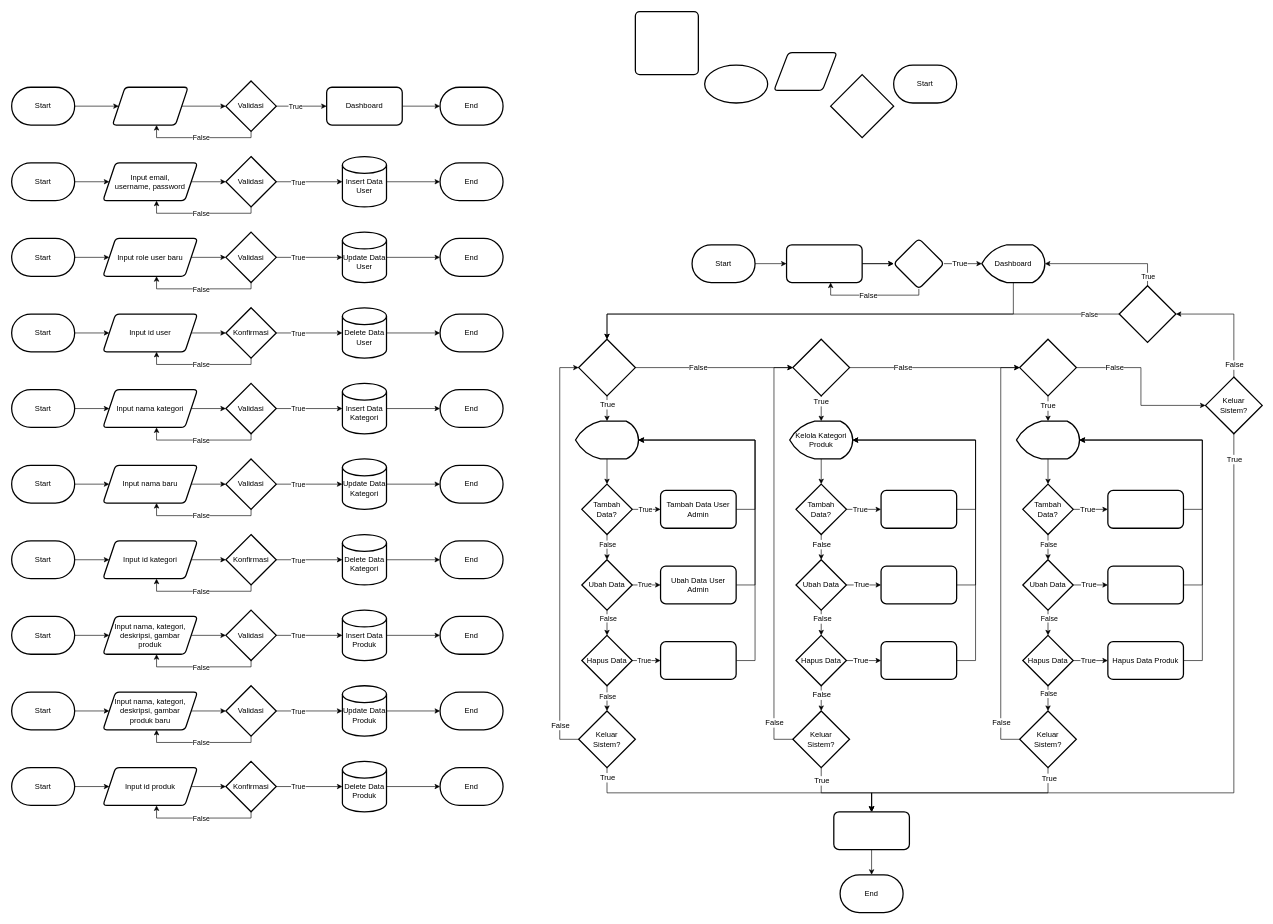
The diagram is 1273 pixels wide and 924 high, and some of its shapes have lost their labels. Here are the shapes that lost their labels. From the top down, the centre of each, then its label:
At pixel 150 105: "Input username dan password".
At pixel 824 263: "Login".
At pixel 918 263: "Login Sukses?".
At pixel 1147 314: "Dashboard?".
At pixel 607 367: "Kelola User Admin?".
At pixel 821 367: "Kelola Kategori Produk?".
At pixel 1048 367: "Kelola Produk?".
At pixel 607 439: "Kelola User Admin".
At pixel 1048 439: "Kelola Produk".
At pixel 918 509: "Tambah Data Kategori Produk".
At pixel 1145 509: "Tambah Data Produk".
At pixel 918 584: "Ubah Data Kategori Produk".
At pixel 1145 584: "Ubah Data Produk".
At pixel 698 660: "Hapus Data User ADmin".
At pixel 918 660: "Hapus Data Kategori Produk".
At pixel 871 830: "Logout".
